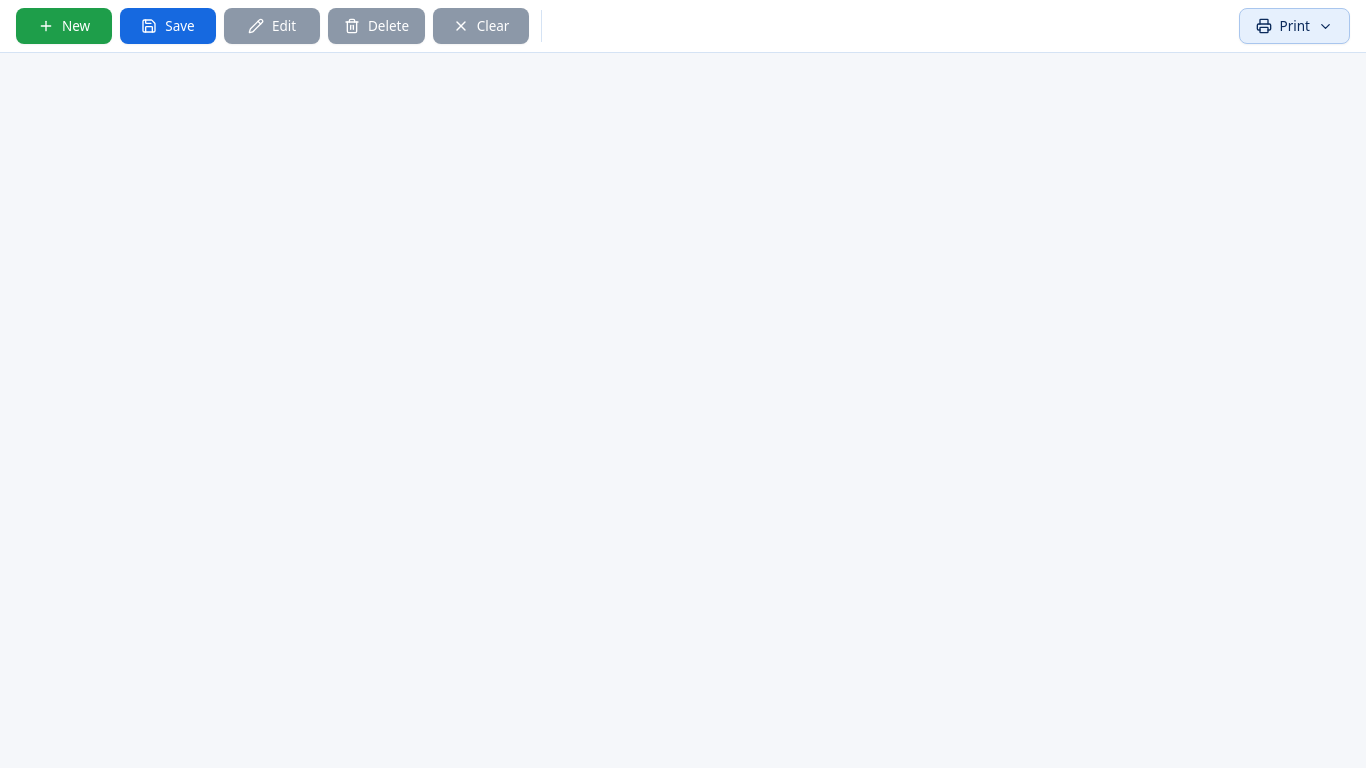
Test: ActionToolbar Print menu › closes on a mousedown outside, without exporting
Click the button "Print" at (1294, 26), box [1238, 8, 1350, 44]
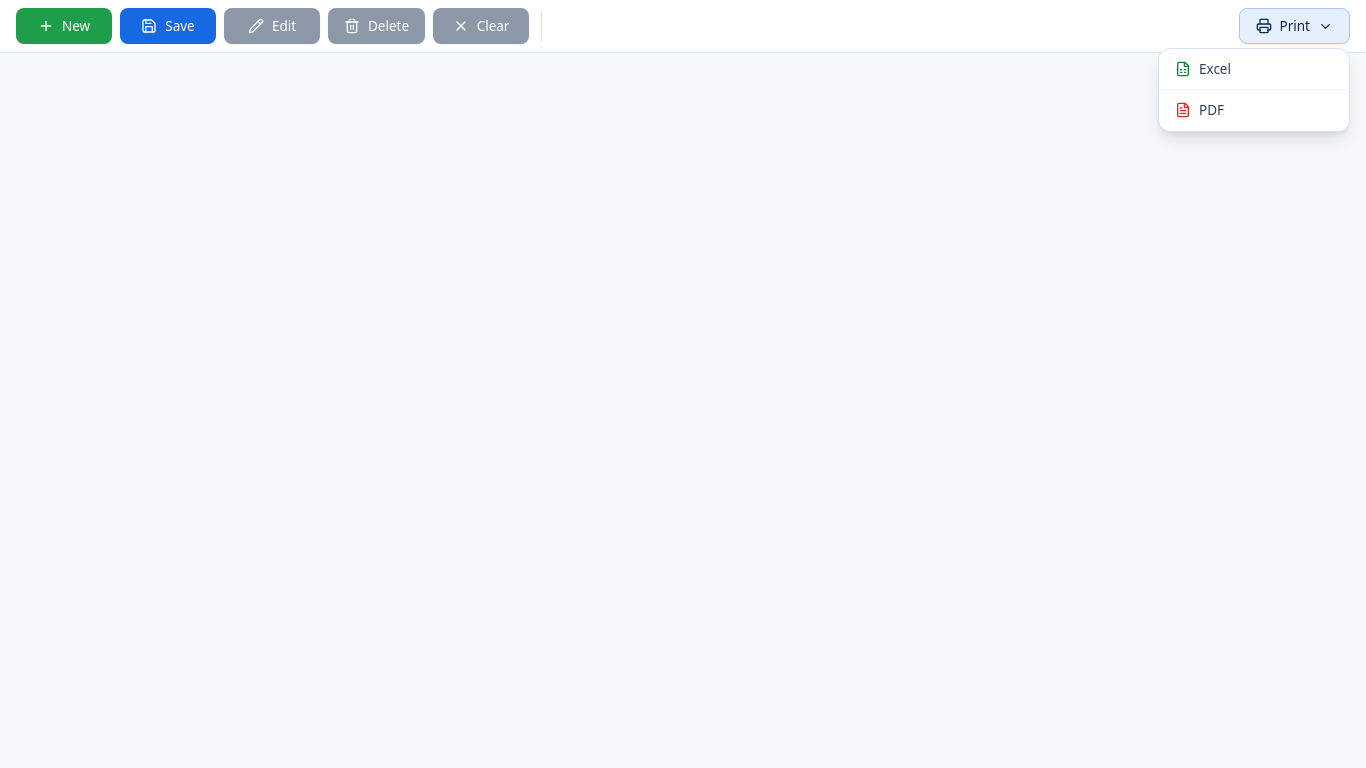
Press the mouse on the element showing "New Save Edit Delete Clear Print Excel PDF" at (683, 384), box [0, 0, 1365, 767]
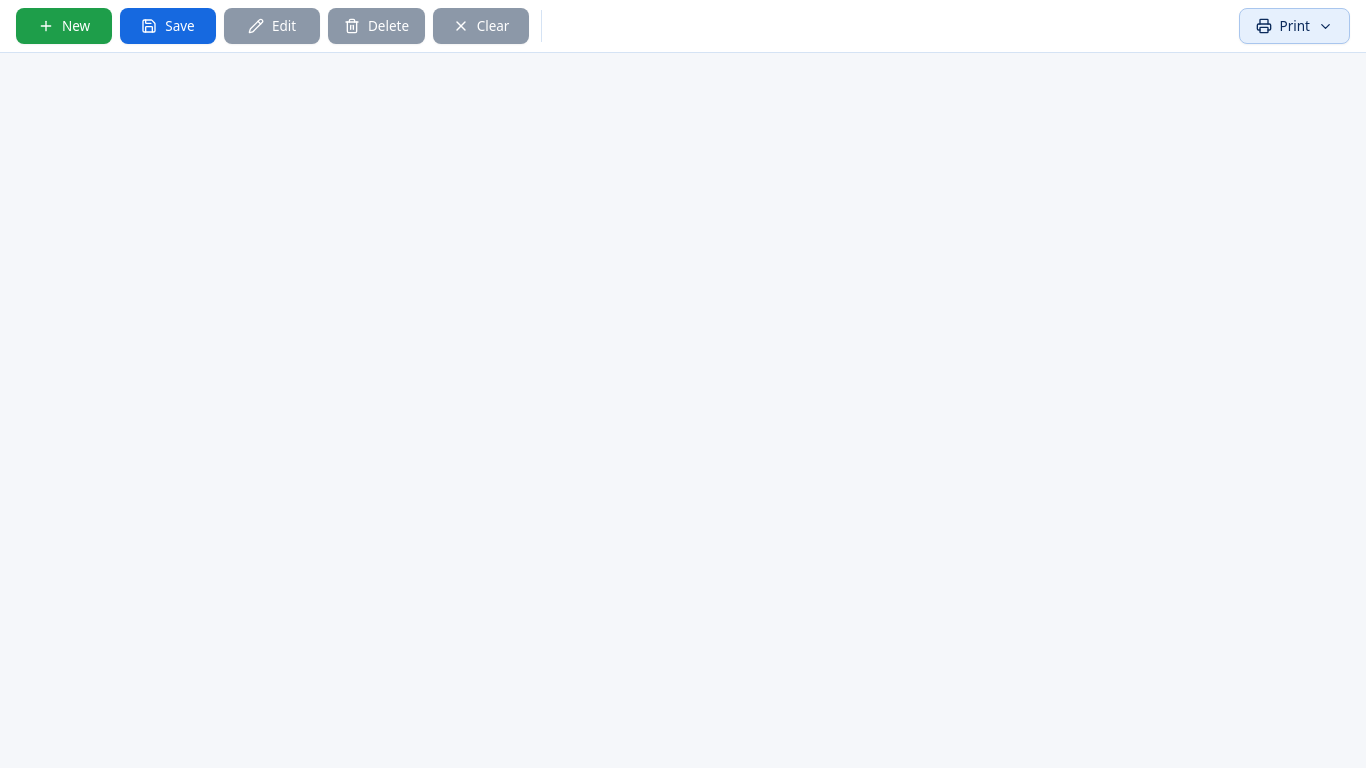
expect the menu is gone: met
